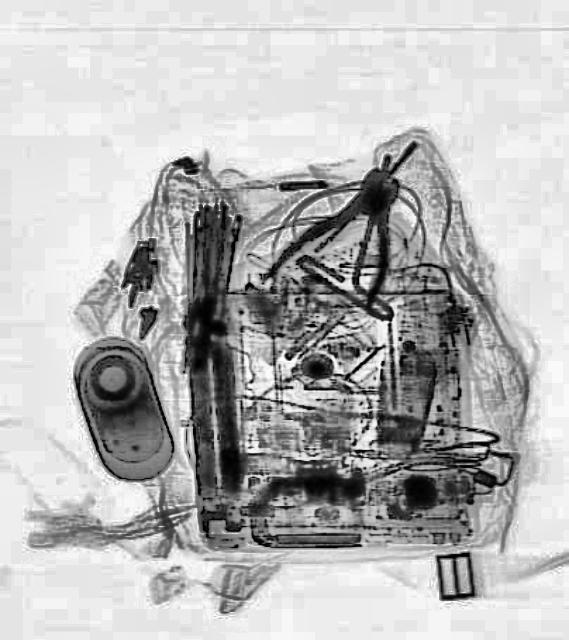Pliers: (255, 142, 427, 336)
